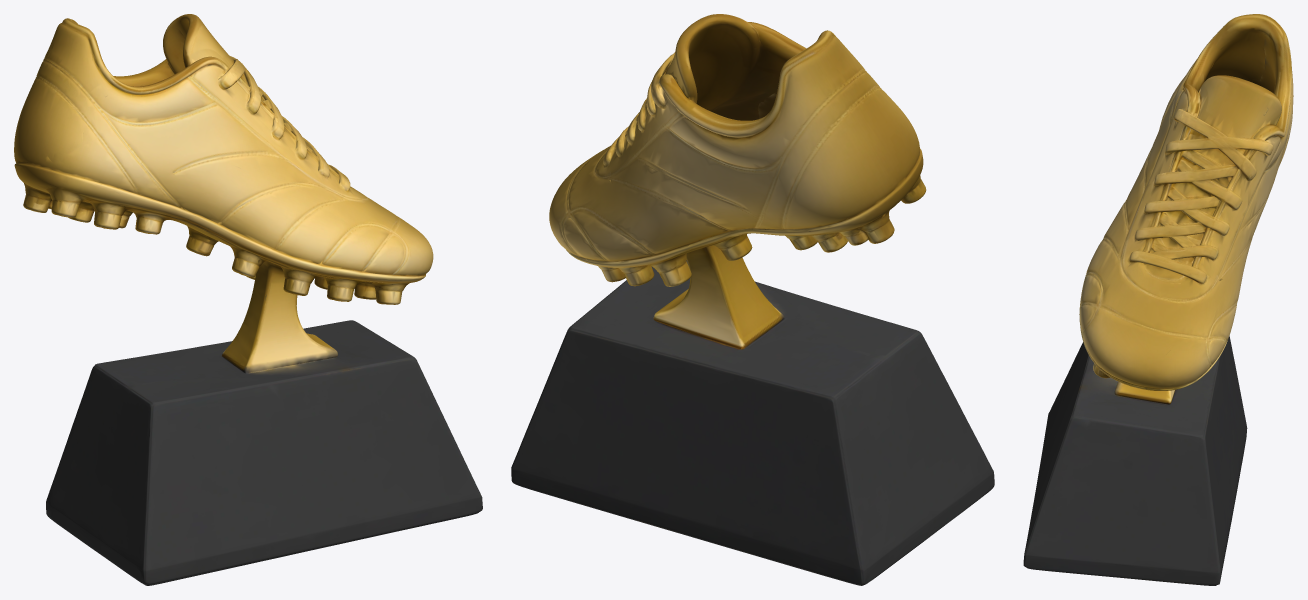
File: boot.glb
The picture shows the model from 3 angles, left to right: view 1: azimuth 30°, elevation 25°; view 2: azimuth 150°, elevation 25°; view 3: azimuth 270°, elevation 25°; orthographic projection. The views are drawn at different scales.
Parts seen in each view (by area): view 1: node_0; view 2: node_0; view 3: node_0.
Boxes of the visible parts, box(x1,y1,x2,y2) form: node_0: box(14, 14, 482, 585); node_0: box(511, 14, 994, 585); node_0: box(1023, 14, 1293, 585).
Size of the model in its own units: 0.7212 by 0.9245 by 0.5109.
Materials: 1 (1 with a texture image).
